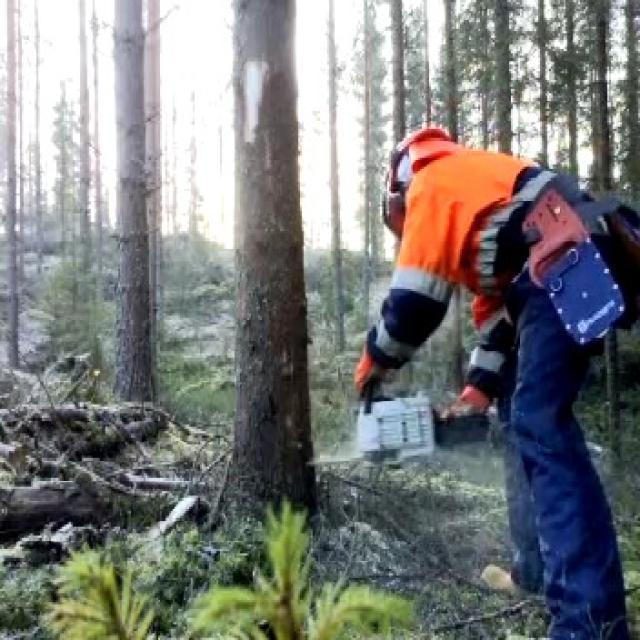Chainsaw: (290, 357, 504, 500)
